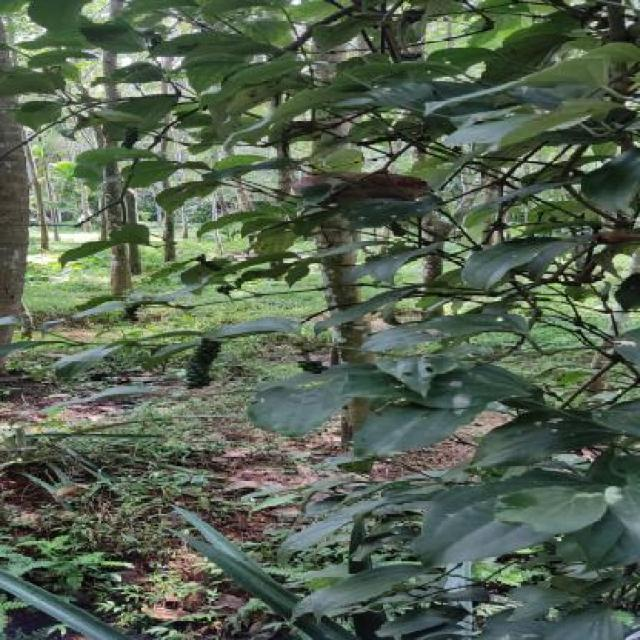UNRIPE: (179, 339, 222, 390), (297, 360, 328, 374)
